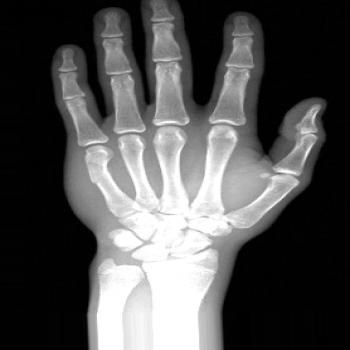Fracture: (76, 160, 116, 184)
